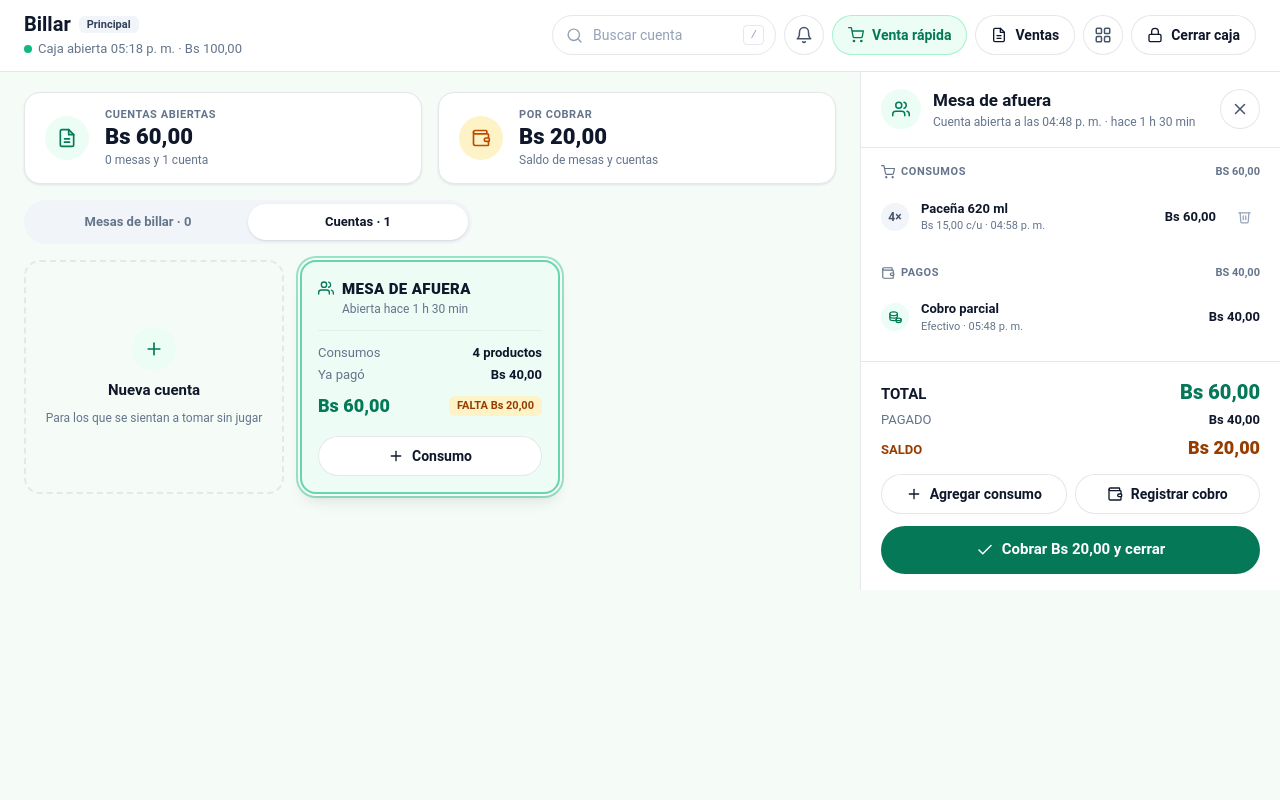
Test: Billar: las cuentas abiertas › cobrar y cerrar manda el saldo con el total que vio el cajero, y la cuenta sale del tablero
Expected: the heading "Billar Principal" is shown, [24,12,139,36]
Click the button "Cobrar Bs 20,00 y cerrar": (1070, 550) [881,526,1260,574]
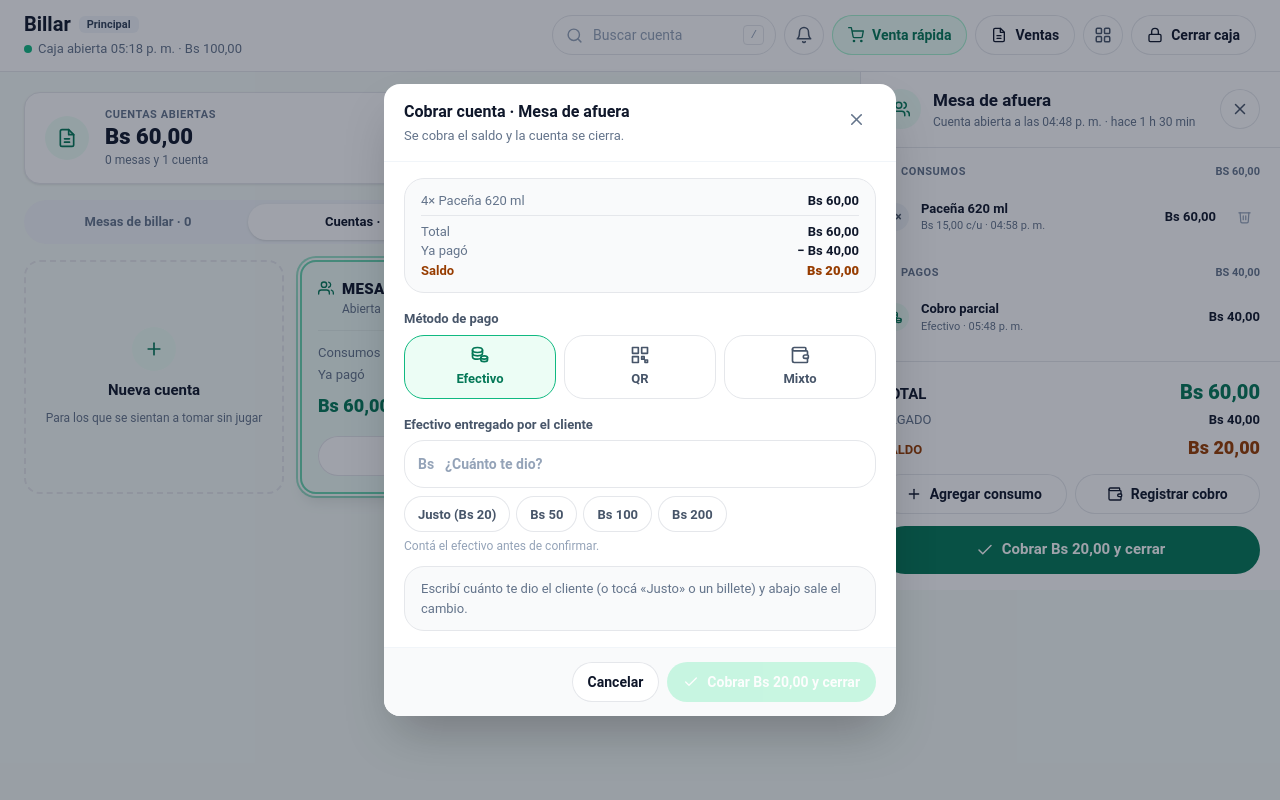
Expected: the text "4× Paceña 620 ml" is shown, [421,191,525,211]
Expected: the text "− Bs 40,00" is shown, [797,241,859,261]
Click the button "Justo (Bs 20)": (457, 514) [404,496,510,532]
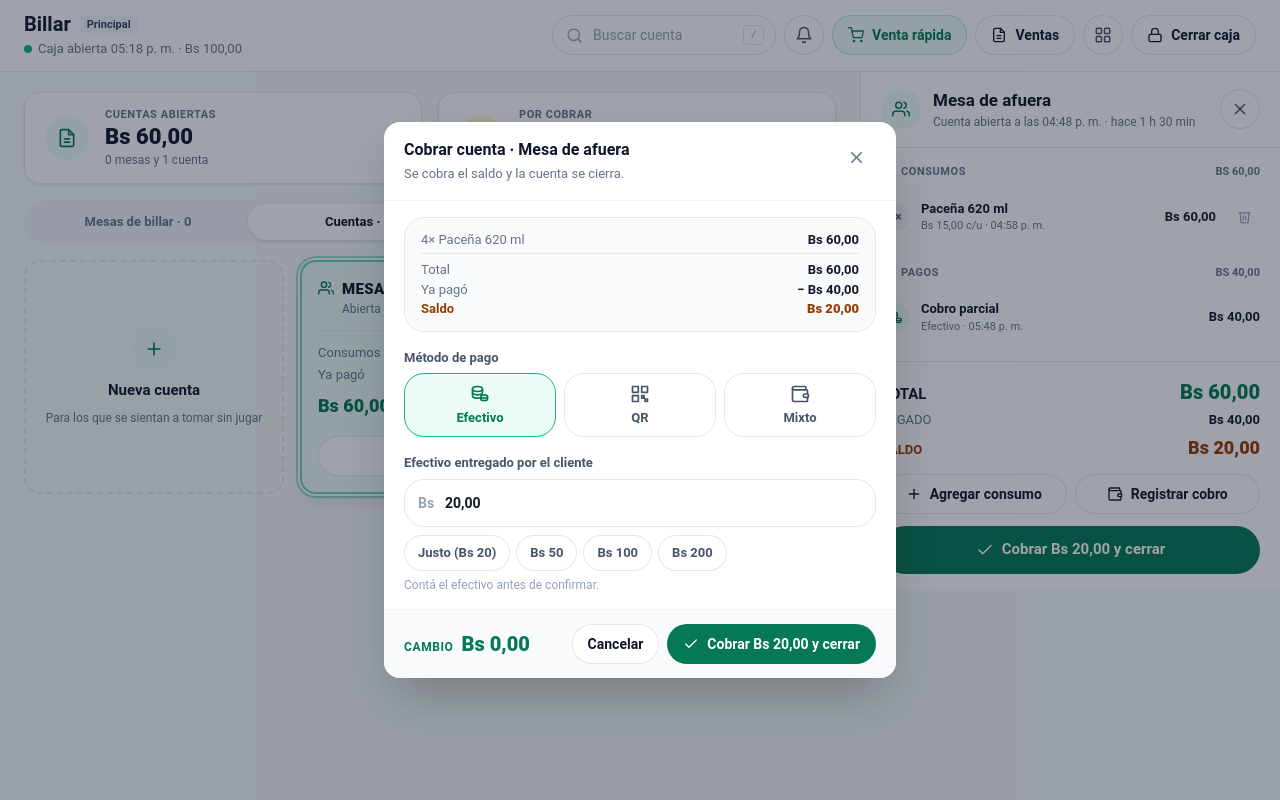
Click the button "Cobrar Bs 20,00 y cerrar": (772, 644) [667,624,876,664]
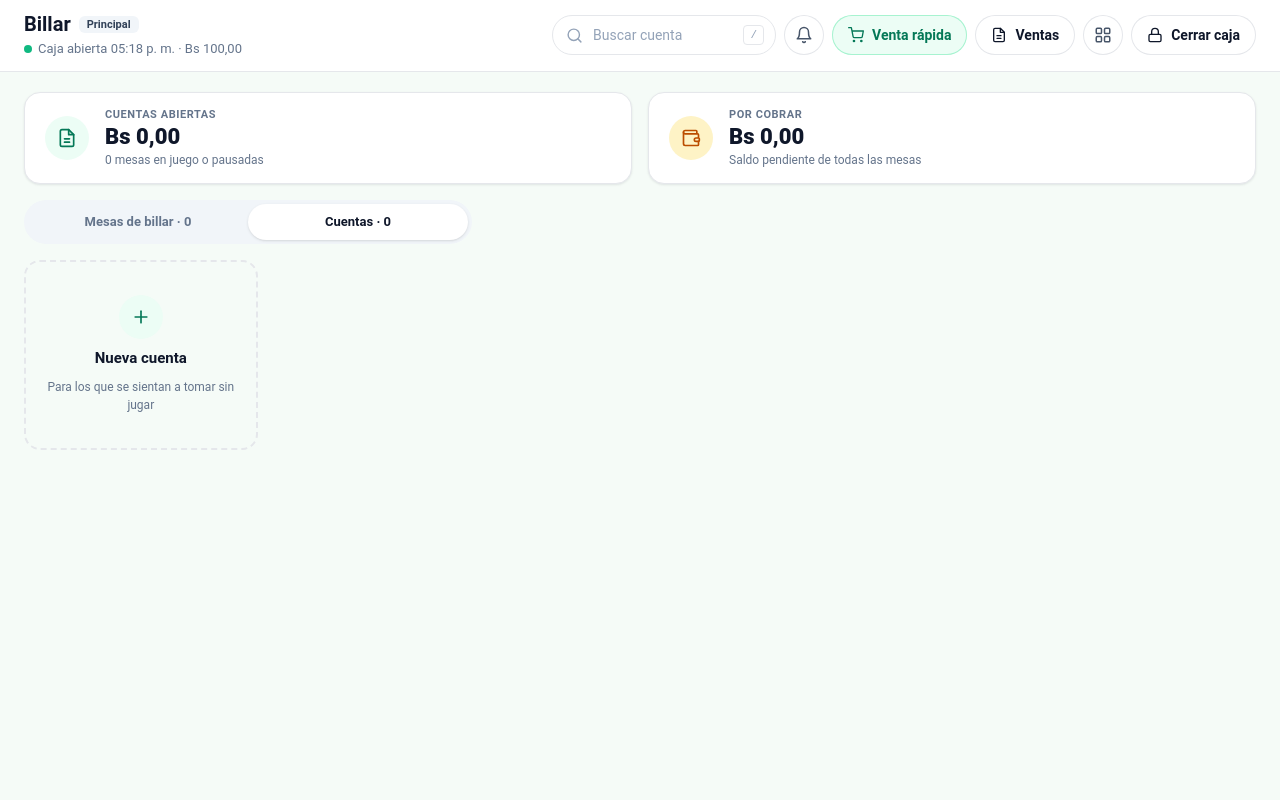
Expected: the button "Mesa de afuera" is gone
